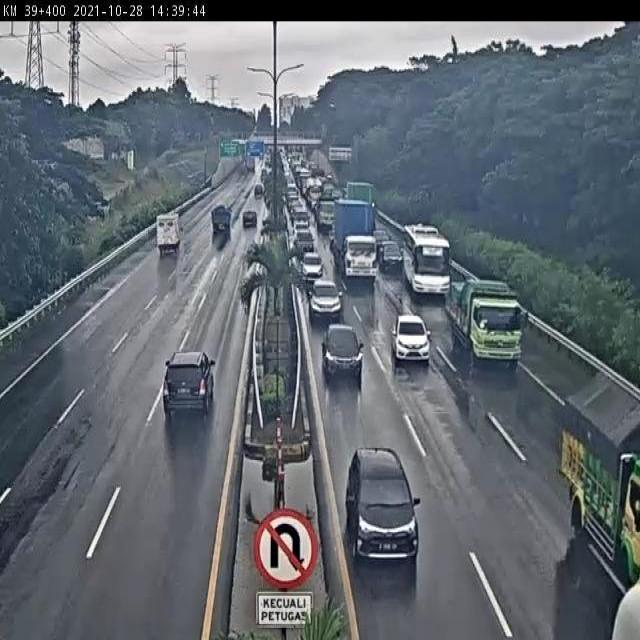big bus: (402, 217, 453, 296)
big truck: (332, 196, 373, 277)
car: (344, 447, 420, 562), (162, 351, 214, 416), (320, 324, 361, 380), (393, 315, 431, 365), (308, 272, 341, 317), (375, 237, 403, 272), (301, 248, 324, 281), (240, 208, 260, 231)
mid truck: (448, 279, 524, 373)
small truck: (156, 212, 185, 253), (210, 204, 235, 236)
